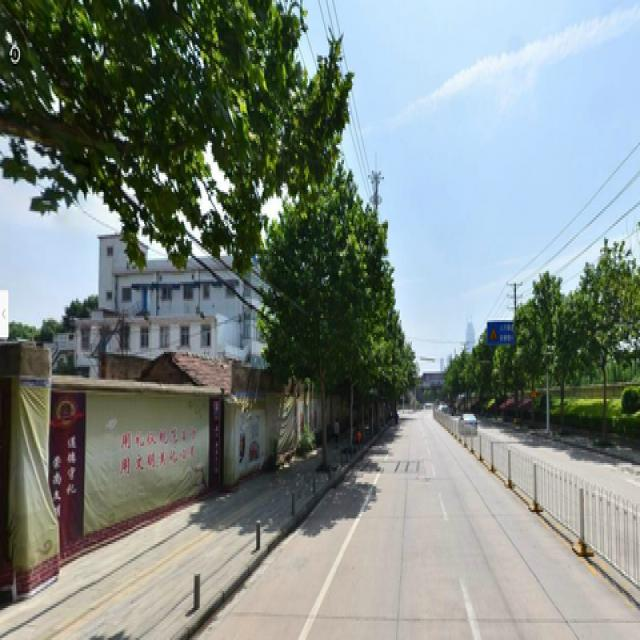meta: (290, 183, 358, 448)
